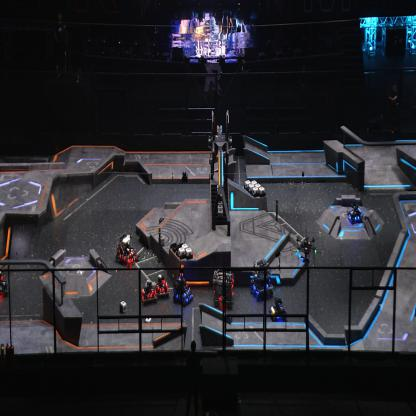car: (250, 258, 274, 302), (212, 268, 235, 308), (115, 232, 139, 268), (172, 274, 194, 308), (268, 296, 287, 322), (346, 200, 363, 226), (140, 279, 157, 304), (154, 274, 170, 298), (0, 269, 10, 298)
